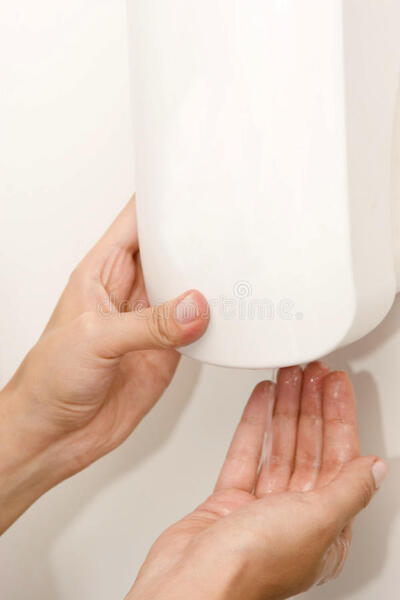sanitizer: (123, 2, 394, 383)
